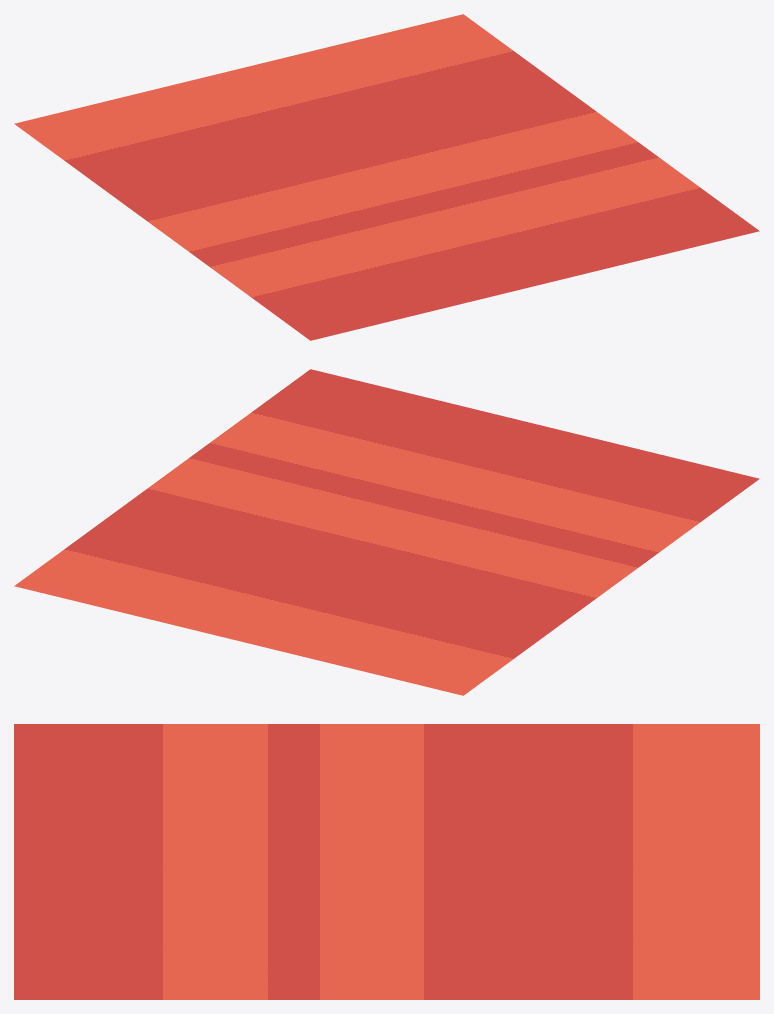
3 renders of one model, top to bottom at view 1: azimuth 30°, elevation 25°; view 2: azimuth 150°, elevation 25°; view 3: azimuth 270°, elevation 25°, orthographic. The views are drawn at different scales.
Size of the model in its own units: 0.875 by 0 by 1.
Materials: 1 (1 with a texture image).
